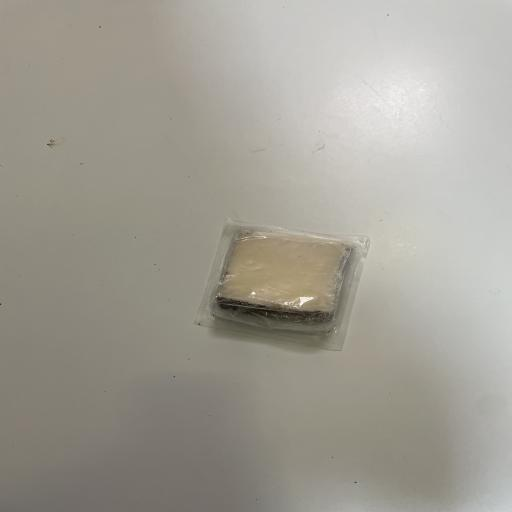cured_goat_cheese: (180, 200, 404, 368)
